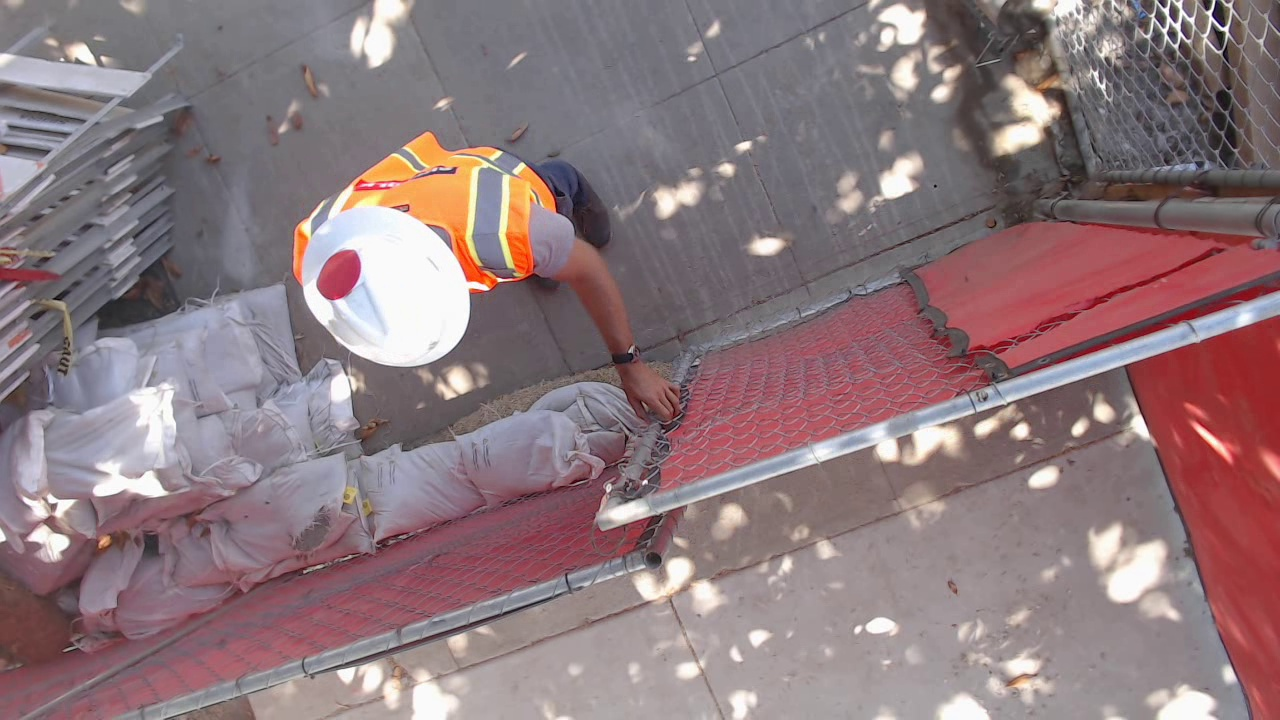hardhat: (232, 467, 306, 566)
person: (222, 469, 454, 720), (541, 1, 764, 151)
safetyvest: (218, 560, 424, 720), (580, 1, 722, 62)
